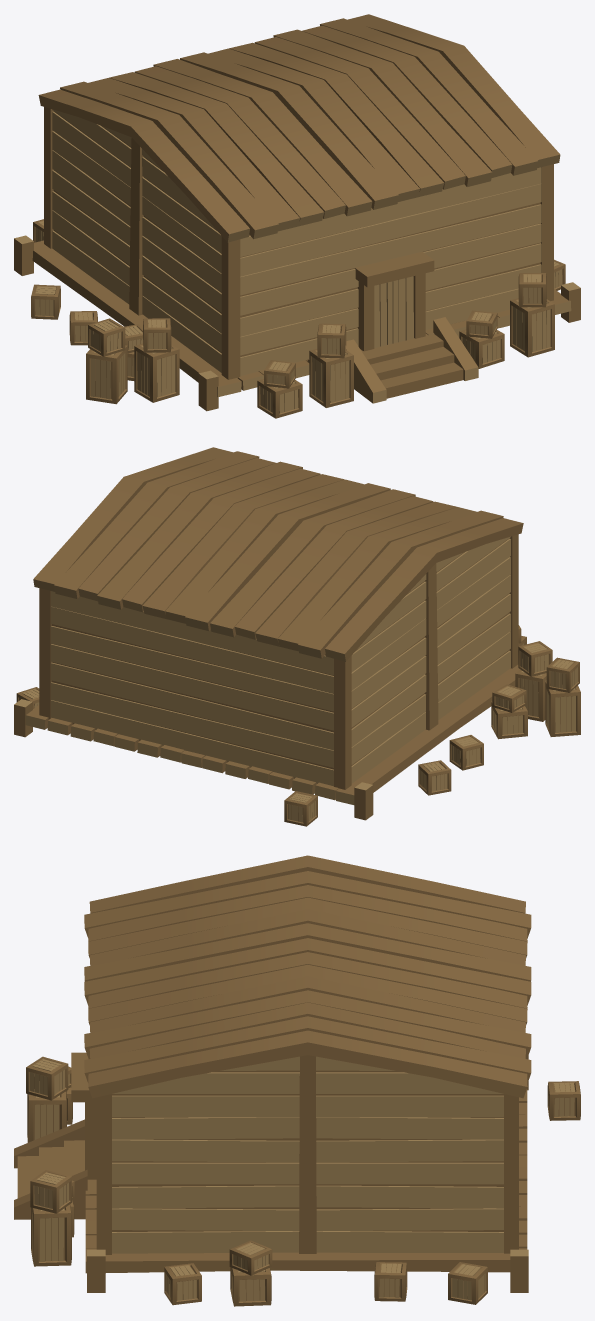
File: Storage shed.glb
3 renders of one model, top to bottom at view 1: azimuth 30°, elevation 25°; view 2: azimuth 150°, elevation 25°; view 3: azimuth 270°, elevation 25°, orthographic. The views are drawn at different scales.
Visible parts, largest first — view 1: Storage_FirstAge_Leve3; view 2: Storage_FirstAge_Leve3; view 3: Storage_FirstAge_Leve3.
Part boxes in pixels (x1,y1,x2,y2): Storage_FirstAge_Leve3: (14,14,580,418); Storage_FirstAge_Leve3: (14,447,580,826); Storage_FirstAge_Leve3: (14,855,580,1306).
Size of the model in its own units: 1.79 by 0.7613 by 1.62.
